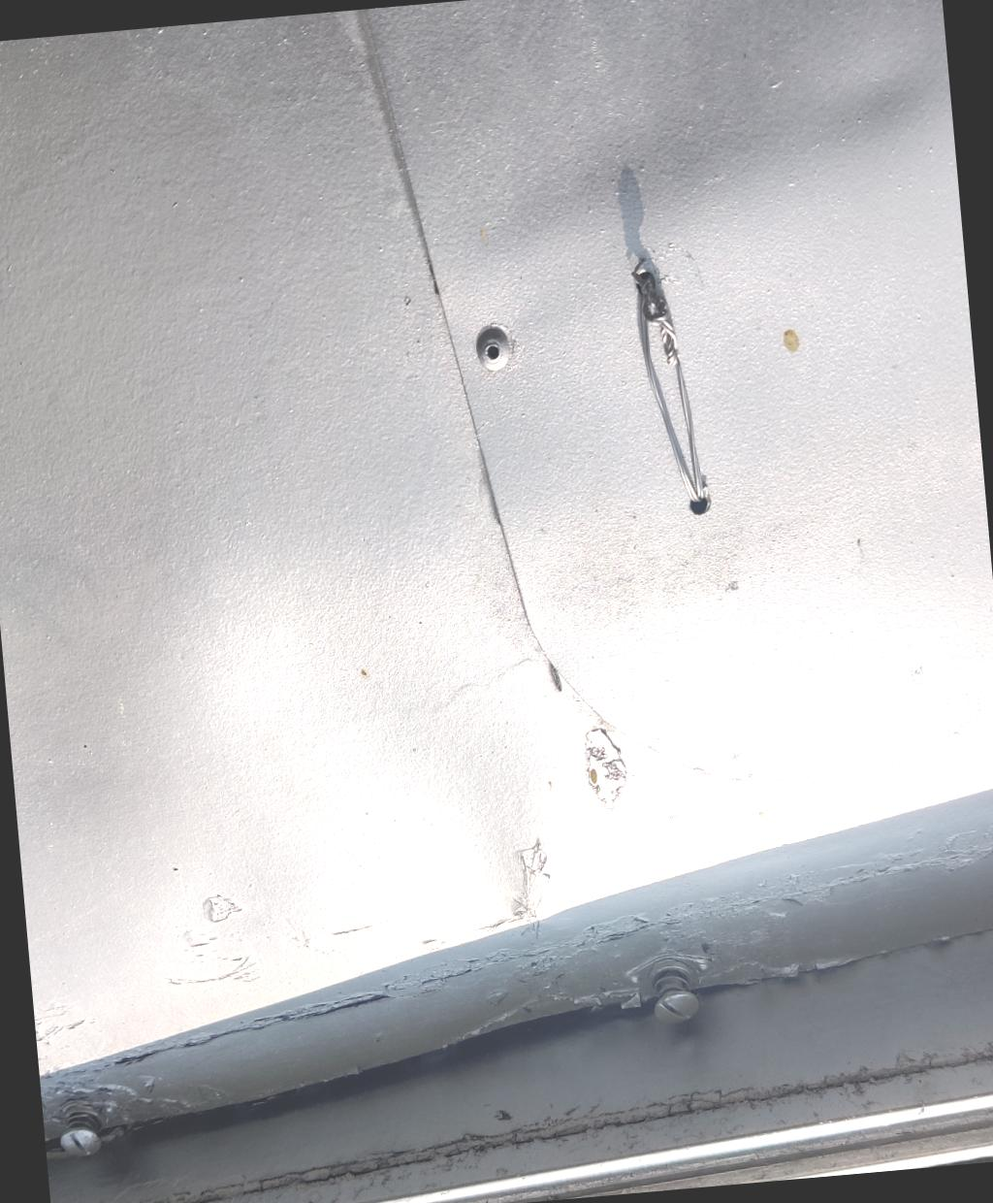dent: (183, 510, 625, 1049)
